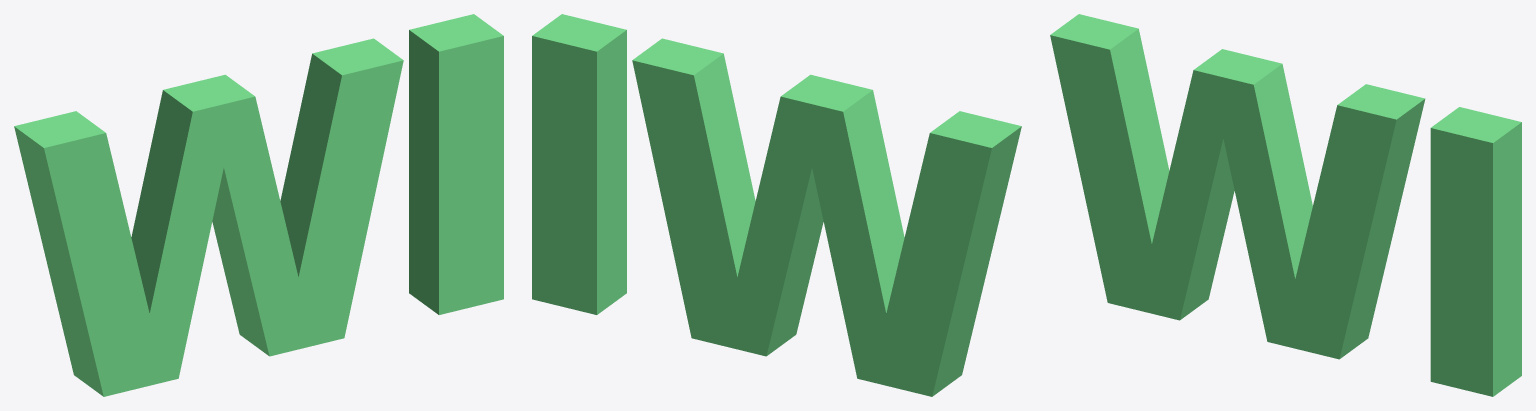
The model's file is suku_besar_wi.glb.
3 renders of one model, left to right at view 1: azimuth 30°, elevation 25°; view 2: azimuth 150°, elevation 25°; view 3: azimuth 330°, elevation 25°, orthographic. The views are drawn at different scales.
Parts seen in each view (by area): view 1: geometry_0; view 2: geometry_0; view 3: geometry_0.
Part boxes in pixels (bbox=[...]): geometry_0: bbox=[14, 14, 503, 396]; geometry_0: bbox=[532, 14, 1021, 396]; geometry_0: bbox=[1050, 14, 1521, 396].
Size of the model in its own units: 13.32 by 7.29 by 1.5.
